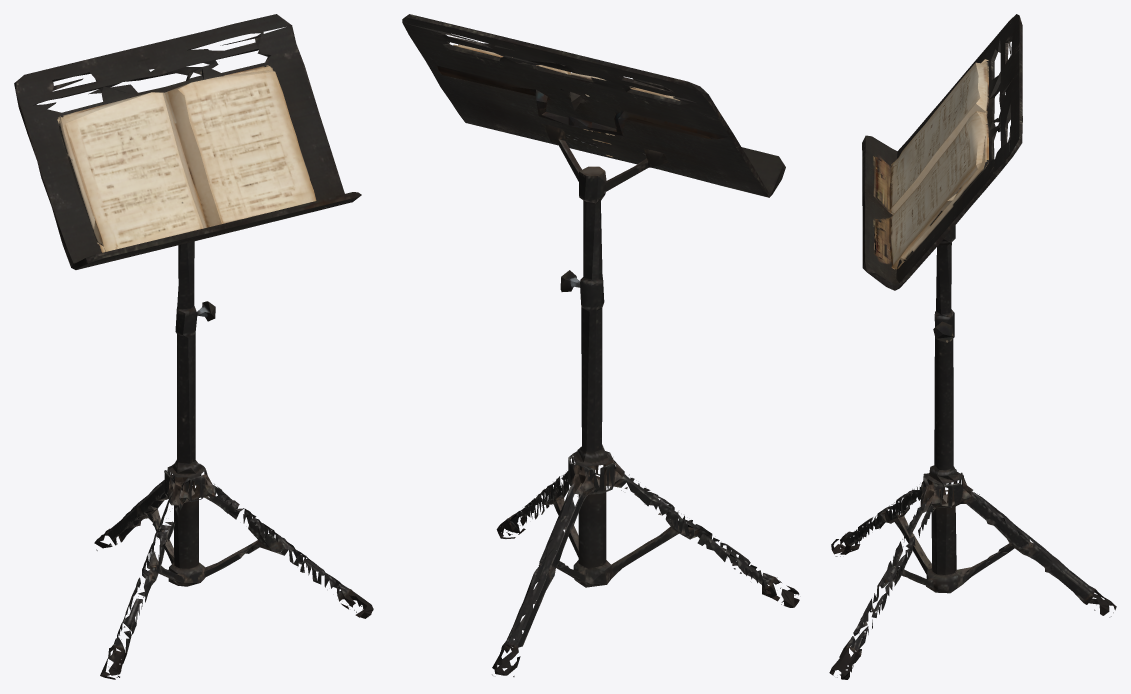
The model's file is music-stand-lod1.fbx.
3 renders of one model, left to right at view 1: azimuth 30°, elevation 25°; view 2: azimuth 150°, elevation 25°; view 3: azimuth 270°, elevation 25°, orthographic. The views are drawn at different scales.
Visible parts, largest first — view 1: CE_music-stand_LOD1; view 2: CE_music-stand_LOD1; view 3: CE_music-stand_LOD1.
Part boxes in pixels (x1=…): CE_music-stand_LOD1: x1=14, y1=14, x2=373, y2=679; CE_music-stand_LOD1: x1=402, y1=14, x2=799, y2=676; CE_music-stand_LOD1: x1=829, y1=14, x2=1116, y2=679.
Bounding box in the file's own units: 62.45 × 116 × 55.88.
1 material, 1 textured.
